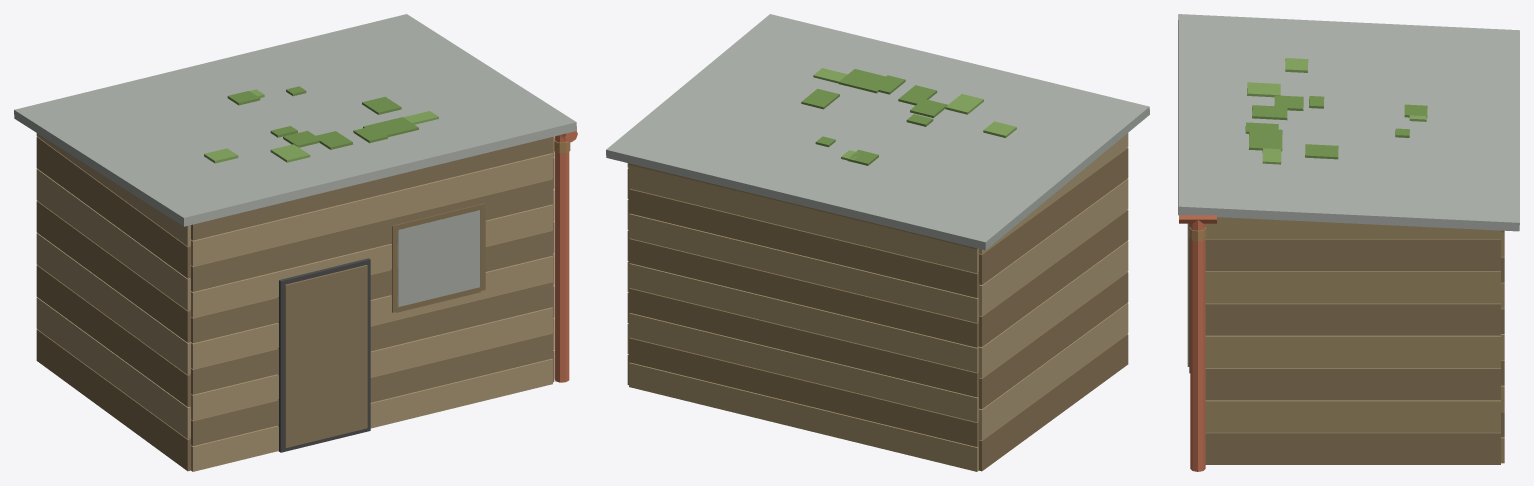
The model's file is House1.fbx.
The picture shows the model from 3 angles, left to right: view 1: azimuth 30°, elevation 25°; view 2: azimuth 150°, elevation 25°; view 3: azimuth 270°, elevation 25°; orthographic projection. The views are drawn at different scales.
Parts seen in each view (by area): view 1: WS_Roof; view 2: WS_Roof; view 3: WS_Roof.
Boxes of the visible parts, x1,y1,x2,y2 form: WS_Roof: [14, 14, 577, 471]; WS_Roof: [606, 14, 1149, 471]; WS_Roof: [1178, 14, 1519, 471].
Bounding box in the file's own units: 5.23 × 3.33 × 3.9.
